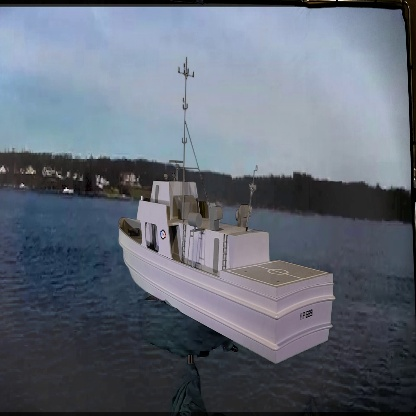YP689: (118, 60, 335, 366)
